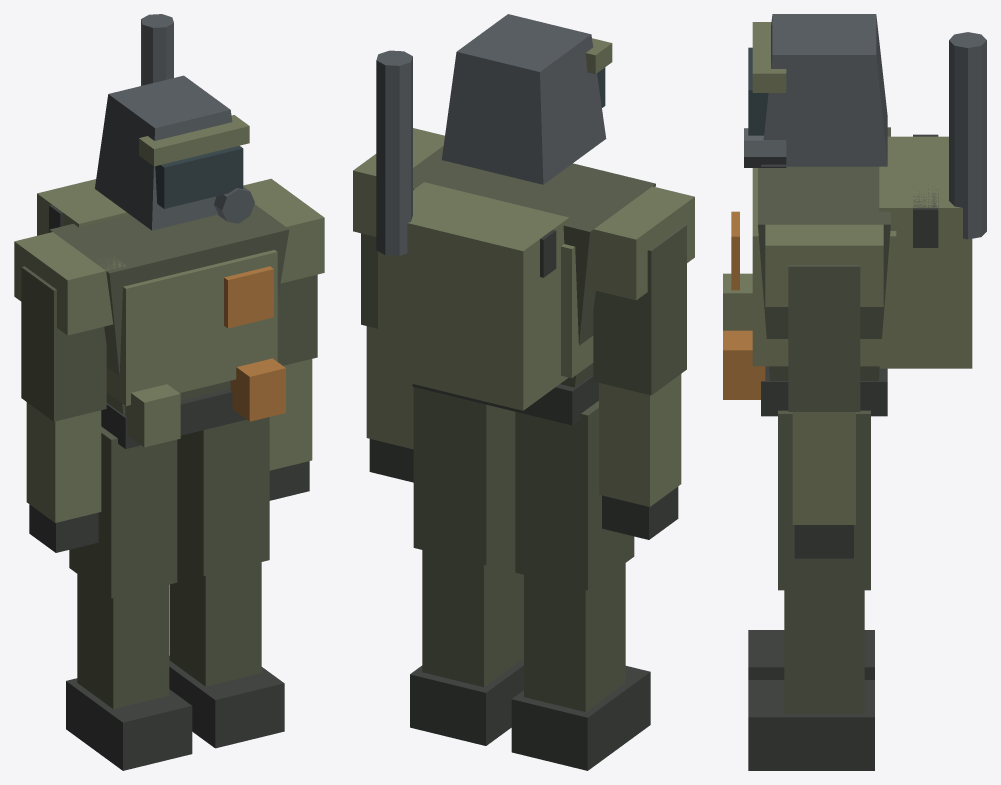
The model's file is soldier_trust.glb.
The picture shows the model from 3 angles, left to right: view 1: azimuth 30°, elevation 25°; view 2: azimuth 150°, elevation 25°; view 3: azimuth 270°, elevation 25°; orthographic projection. The views are drawn at different scales.
Visible parts, largest first — view 1: carrier, thighL, thighR, chest, helmet, shinR, shinL, upperarmR, forearmR, bootR, bootL, pauldron_r (+14 smaller); view 2: pack, helmet, thighL, thighR, shinR, shinL, upperarmR, chest, forearmR, bootR, radio, pauldron_r (+10 smaller); view 3: helmet, pack, upperarmL, chest, shinL, bootL, thighL, radio, forearmL, pauldron_l, carrier, pouch_l (+9 smaller).
Part boxes in pixels (left/top/right/bottom): carrier: left=106, top=250, right=277, bottom=405; thighL: left=177, top=417, right=269, bottom=575; thighR: left=69, top=426, right=177, bottom=598; chest: left=49, top=204, right=289, bottom=414; helmet: left=95, top=75, right=232, bottom=230; shinR: left=77, top=574, right=169, bottom=708; shinL: left=169, top=557, right=261, bottom=686; upperarmR: left=21, top=266, right=106, bottom=421; forearmR: left=26, top=402, right=101, bottom=522; bootR: left=66, top=678, right=192, bottom=770; bootL: left=169, top=656, right=284, bottom=748; pauldron_r: left=14, top=232, right=125, bottom=335; pack: left=378, top=182, right=569, bottom=410; helmet: left=441, top=14, right=606, bottom=184; thighL: left=413, top=387, right=515, bottom=565; thighR: left=515, top=401, right=634, bottom=590; shinR: left=524, top=563, right=625, bottom=711; shinL: left=422, top=545, right=523, bottom=687; upperarmR: left=593, top=224, right=686, bottom=395; chest: left=413, top=146, right=655, bottom=387; forearmR: left=599, top=374, right=681, bottom=506; bootR: left=511, top=666, right=650, bottom=770; radio: left=376, top=50, right=412, bottom=255; pauldron_r: left=586, top=186, right=694, bottom=300; helmet: left=761, top=14, right=887, bottom=166; pack: left=879, top=136, right=972, bottom=368; upperarmL: left=788, top=265, right=860, bottom=411; chest: left=758, top=127, right=890, bottom=380; shinL: left=784, top=590, right=864, bottom=713; bootL: left=748, top=680, right=874, bottom=770; thighL: left=778, top=410, right=870, bottom=590; radio: left=949, top=32, right=986, bottom=239; forearmL: left=792, top=412, right=855, bottom=524; pauldron_l: left=765, top=224, right=883, bottom=306; carrier: left=752, top=168, right=896, bottom=366; pouch_l: left=723, top=330, right=765, bottom=399.
Bounding box in the file's own units: 0.8 × 1.87 × 0.625.
